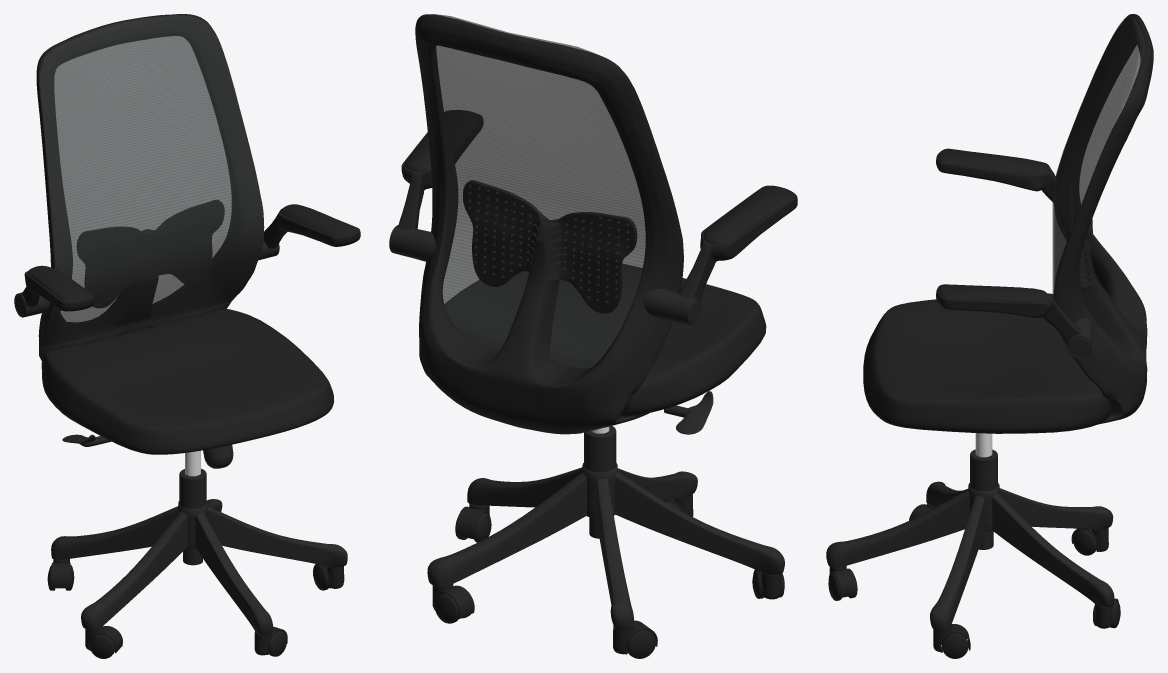
The model's file is black_computer_chair_-_mesh_back_support.glb.
The picture shows the model from 3 angles, left to right: view 1: azimuth 30°, elevation 25°; view 2: azimuth 150°, elevation 25°; view 3: azimuth 270°, elevation 25°; orthographic projection. The views are drawn at different scales.
Visible parts, largest first — view 1: _polySurface20_1; view 2: _polySurface20_1; view 3: _polySurface20_1.
Part boxes in pixels (<box>): _polySurface20_1: <box>14,14,360,658</box>; _polySurface20_1: <box>389,14,797,658</box>; _polySurface20_1: <box>826,14,1153,658</box>.
Size of the model in its own units: 0.6349 by 1.07 by 0.58.
2 materials, 2 textured.
